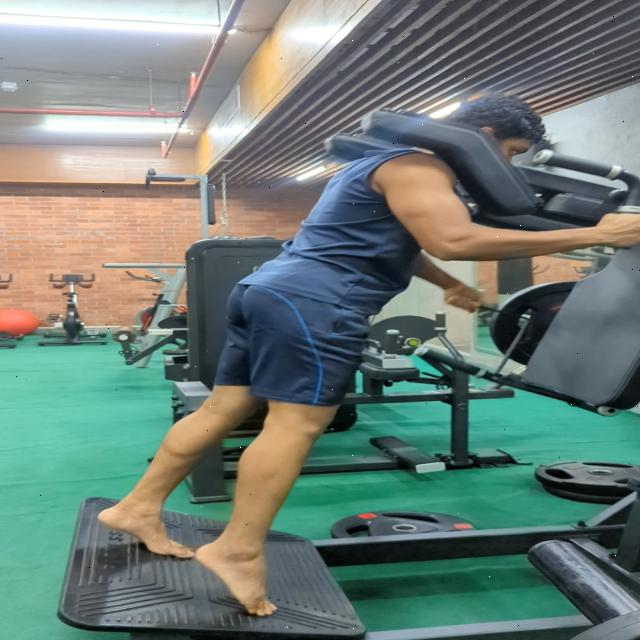Normal_SquatsWithBarbell: (65, 87, 640, 640)
